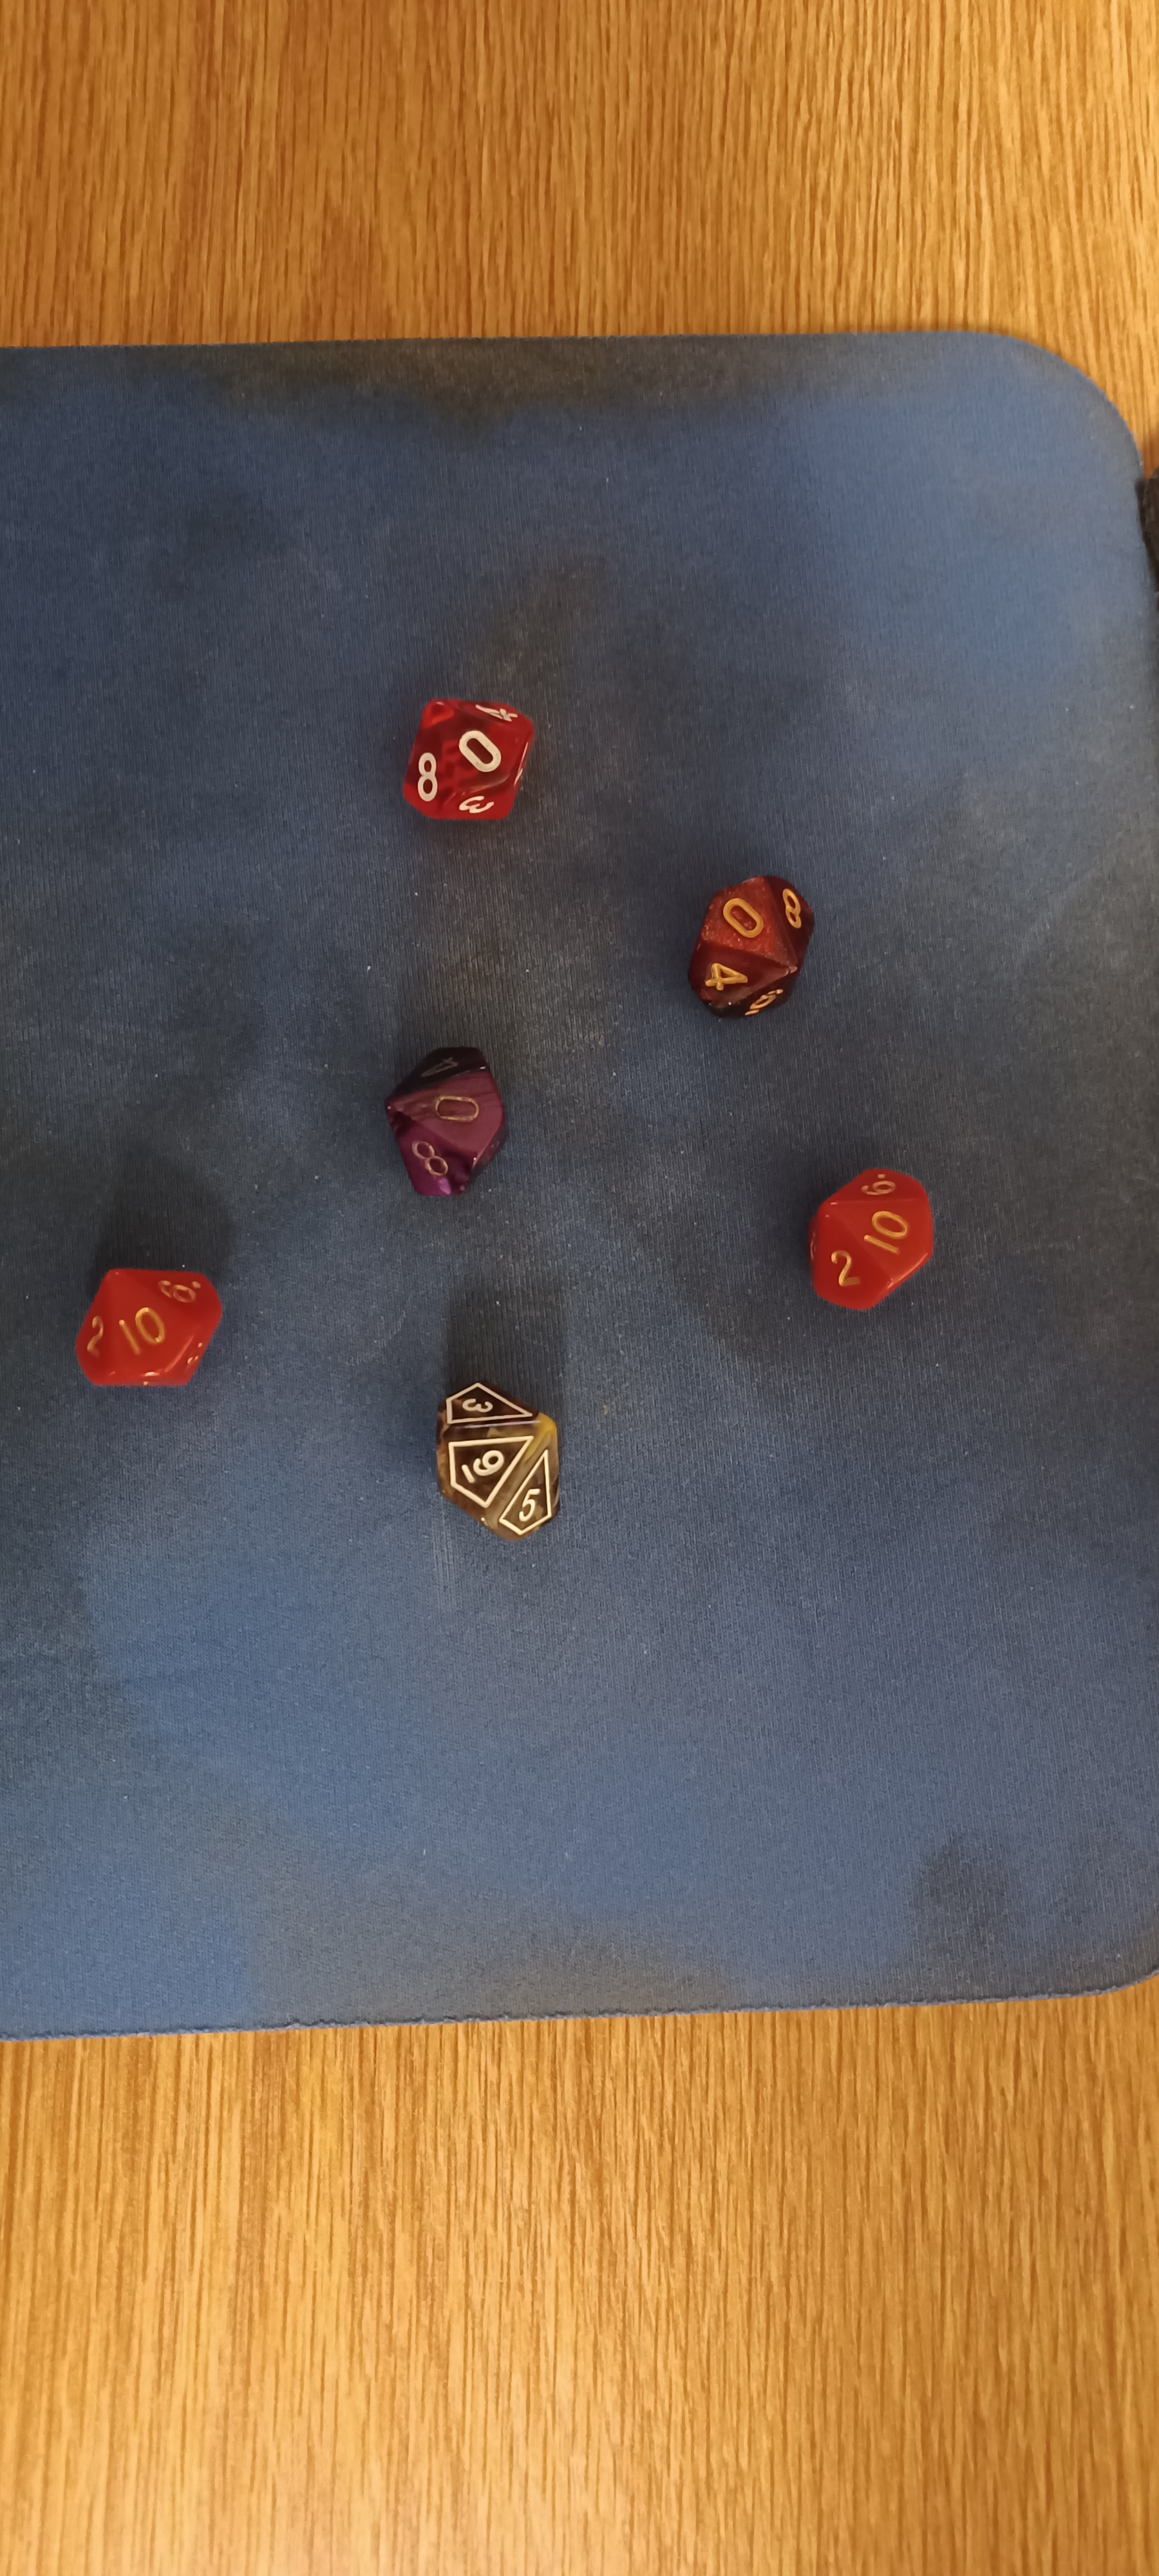nine: (401, 1365, 591, 1551)
ten: (770, 1130, 983, 1368), (18, 1234, 256, 1423)
zero: (371, 1022, 534, 1229), (379, 672, 570, 836), (665, 843, 832, 1023)
